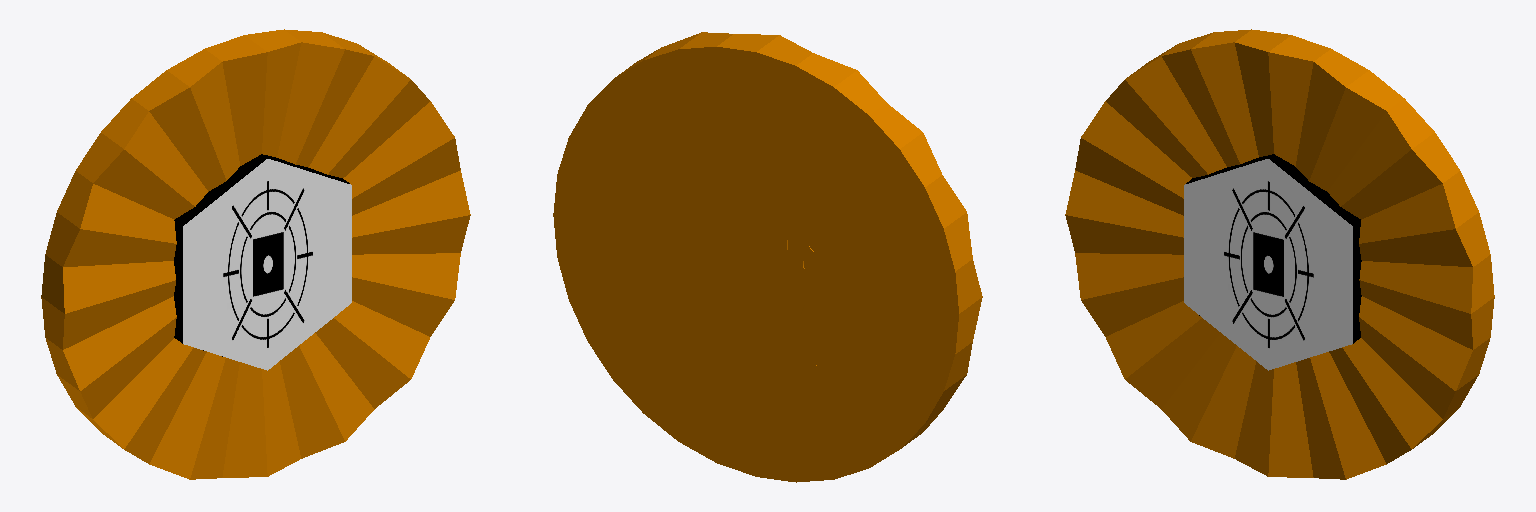
3 views of the same model, side by side, from view 1: azimuth 30°, elevation 25°; view 2: azimuth 150°, elevation 25°; view 3: azimuth 330°, elevation 25° (orthographic).
Visible parts, largest first — view 1: Cylinder; view 2: Cylinder; view 3: Cylinder.
Boxes of the visible parts, box(x1,y1,x2,y2) form: Cylinder: box(41, 29, 470, 479); Cylinder: box(553, 32, 982, 482); Cylinder: box(1065, 29, 1494, 479).
Size of the model in its own units: 10 by 10 by 1.
3 materials, 1 textured.